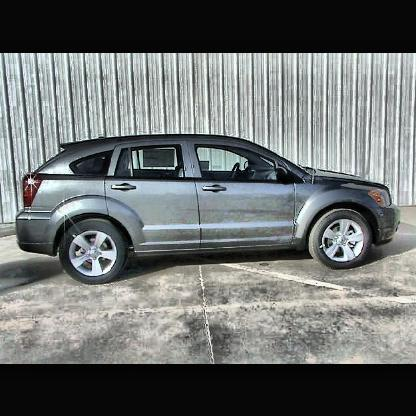Dodge Caliber Wagon 2012: (17, 135, 402, 288)
